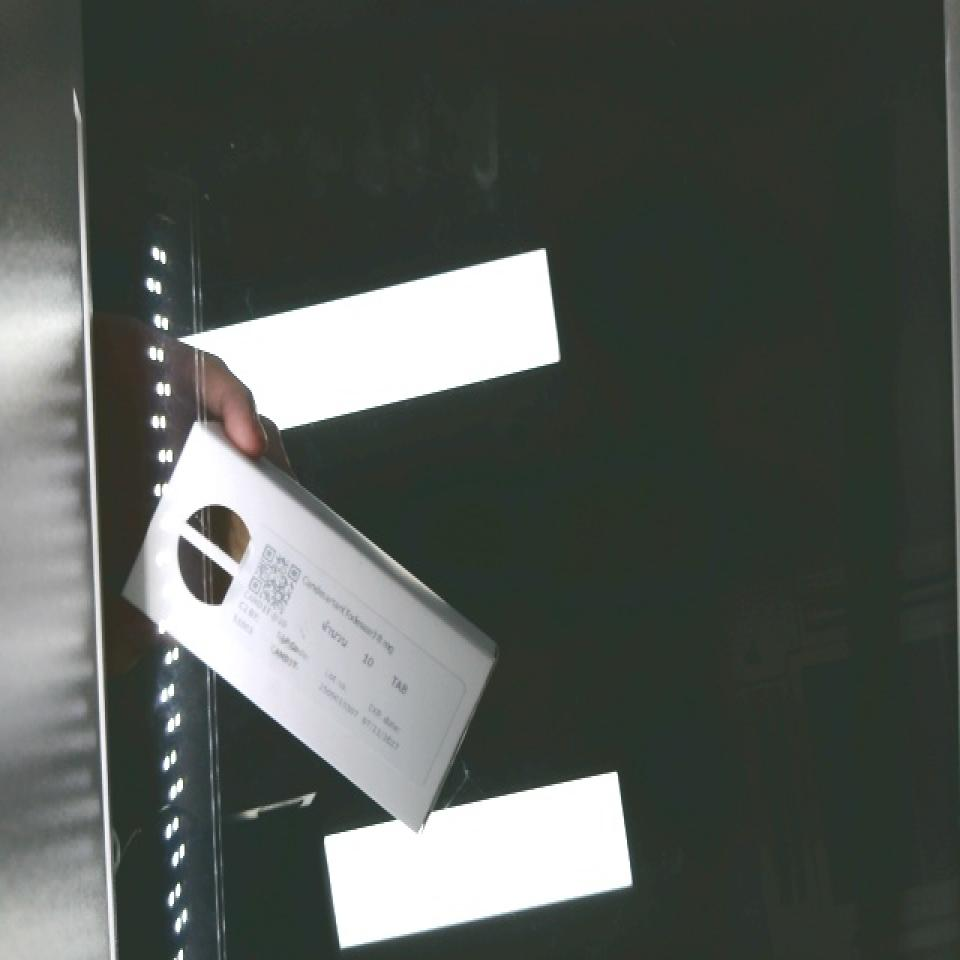medicine_box: (81, 419, 534, 836)
qr_code: (221, 526, 331, 633)
